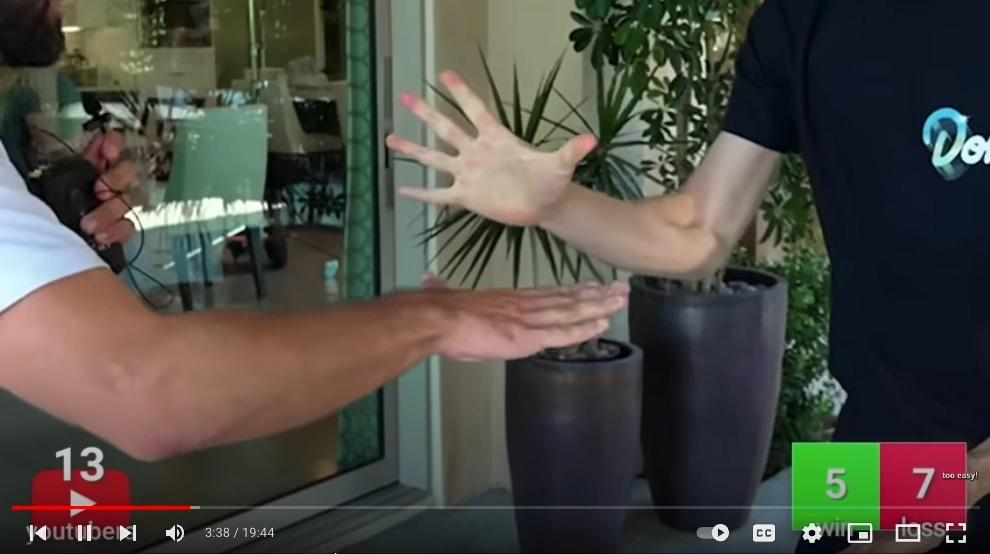Paper: (386, 72, 599, 228), (416, 271, 633, 365)
